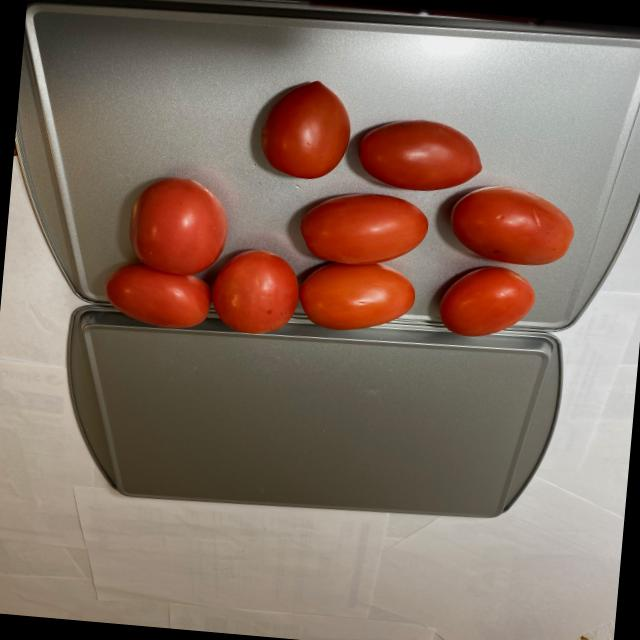tomato: (100, 62, 586, 360)
